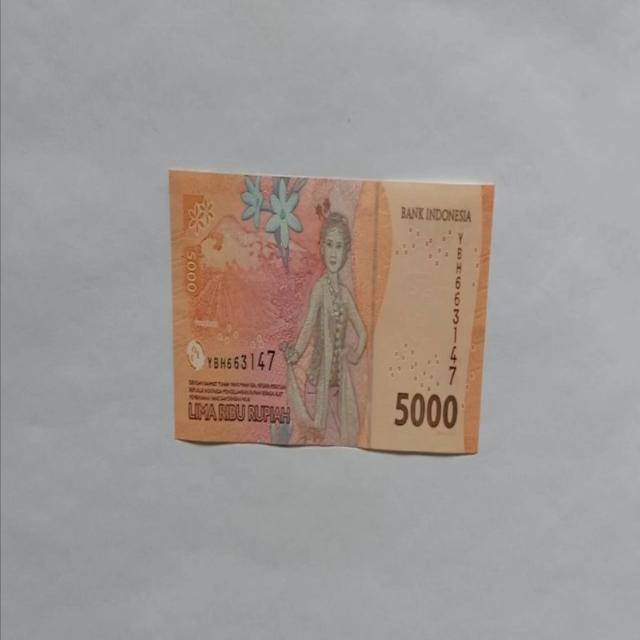lima ribu rupiah: (168, 168, 494, 454), (278, 211, 368, 446)
